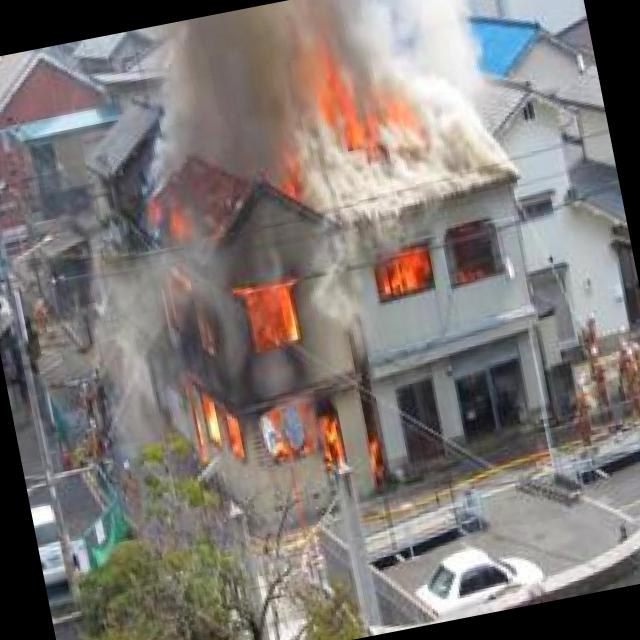Fire: (225, 273, 312, 353), (192, 378, 250, 468), (369, 236, 441, 306), (310, 405, 351, 485), (364, 438, 390, 483)
Smoke: (122, 0, 522, 256)
